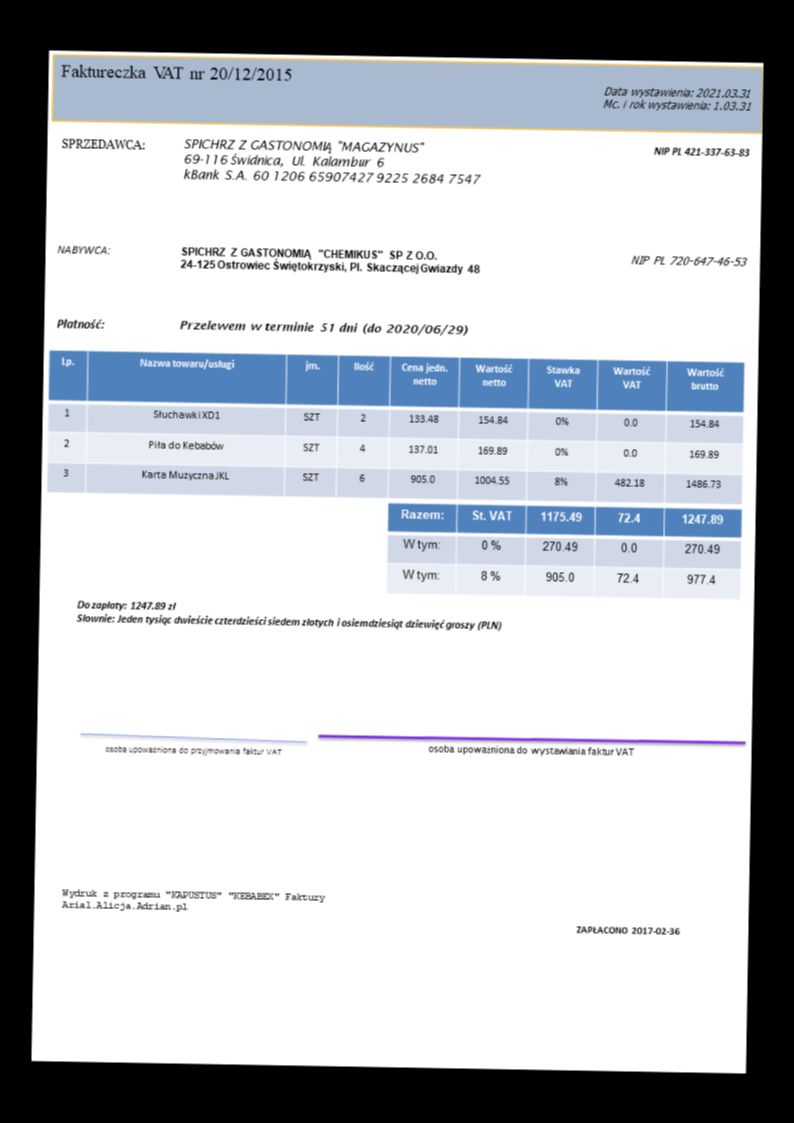Table: (44, 348, 744, 503), (385, 501, 743, 601)
TextBox: (179, 134, 484, 189), (74, 596, 502, 634), (176, 242, 482, 278), (58, 886, 327, 914), (59, 60, 293, 84), (178, 317, 469, 336), (601, 82, 754, 114), (425, 742, 636, 760), (103, 741, 283, 757), (628, 252, 748, 269), (572, 921, 681, 937), (651, 142, 752, 159), (58, 135, 147, 153), (54, 315, 105, 331), (55, 242, 112, 256)
